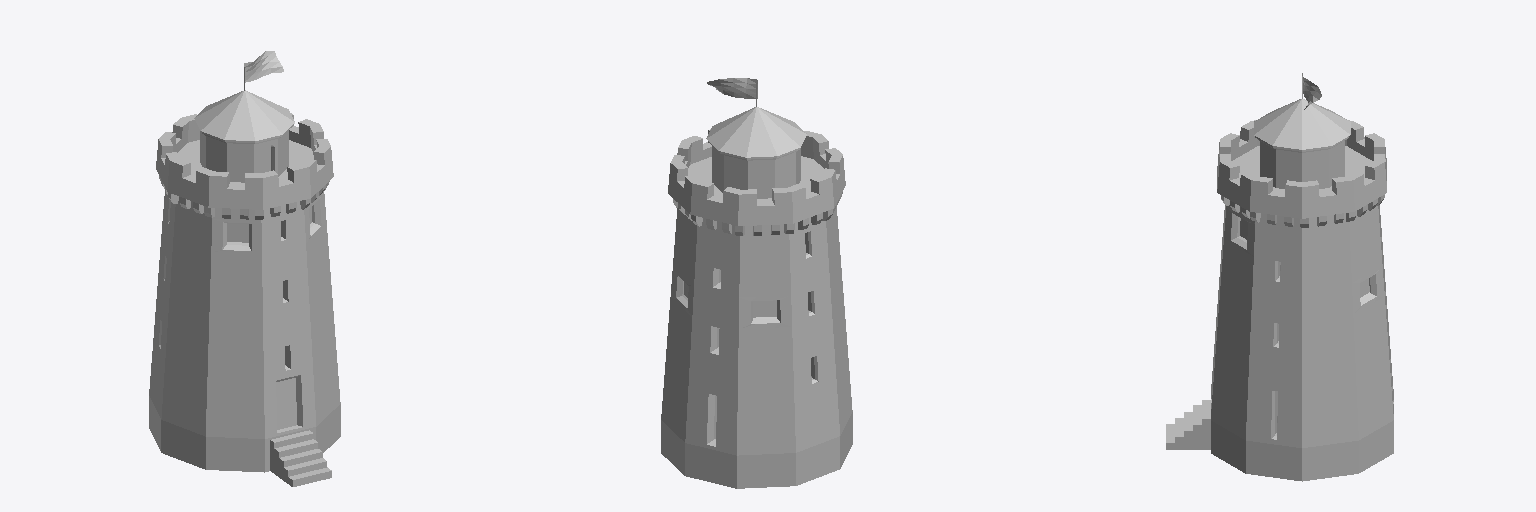
File: tower.obj
3 renders of one model, left to right at view 1: azimuth 30°, elevation 25°; view 2: azimuth 150°, elevation 25°; view 3: azimuth 270°, elevation 25°, orthographic.
Visible parts, largest first — view 1: Castle_Tower, Flag; view 2: Castle_Tower, Flag; view 3: Castle_Tower.
Boxes of the visible parts, x1,y1,x2,y2 form: Castle_Tower: [149, 67, 340, 486]; Flag: [244, 51, 283, 82]; Castle_Tower: [661, 83, 852, 488]; Flag: [707, 78, 757, 98]; Castle_Tower: [1166, 76, 1393, 481].
Bounding box in the file's own units: 222 × 469 × 262.